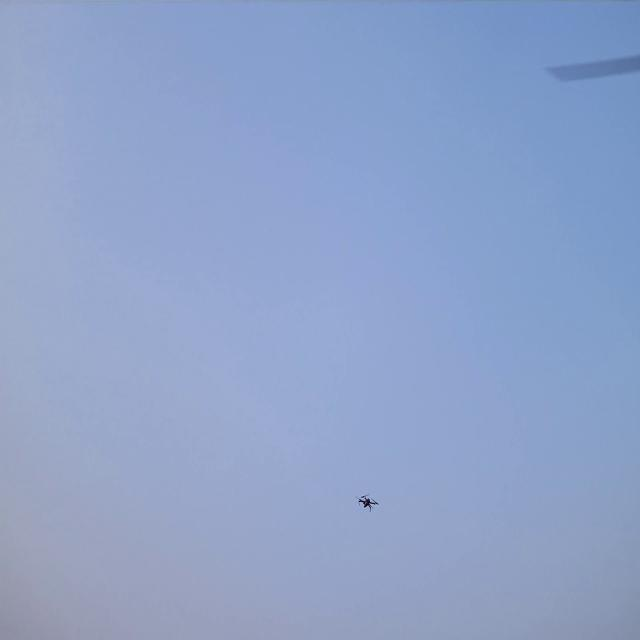UAV: (359, 495, 377, 511)
